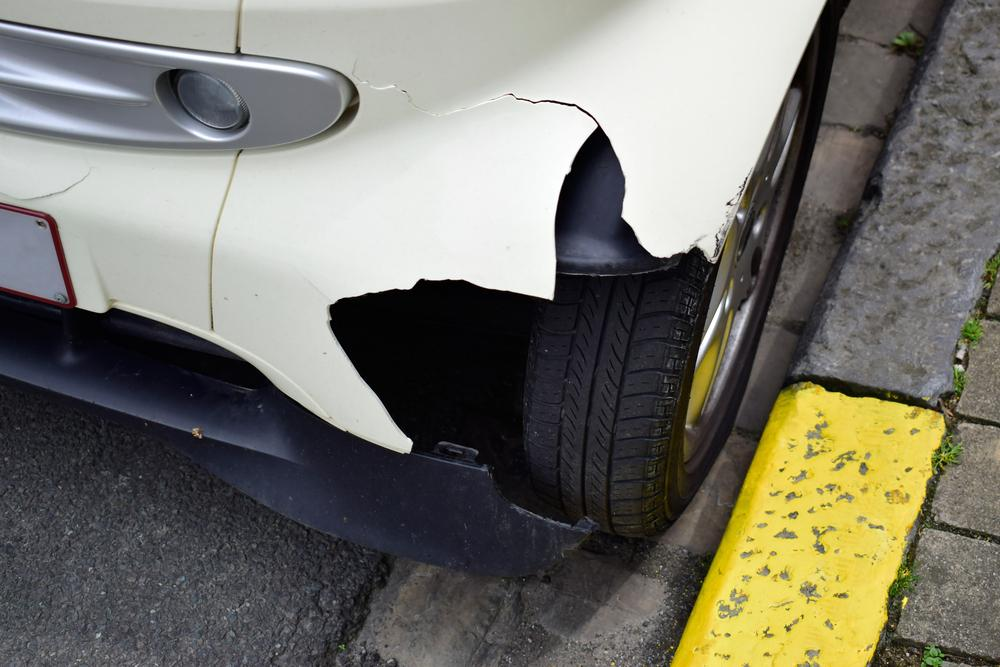crack: (353, 53, 601, 126), (0, 160, 96, 200)
